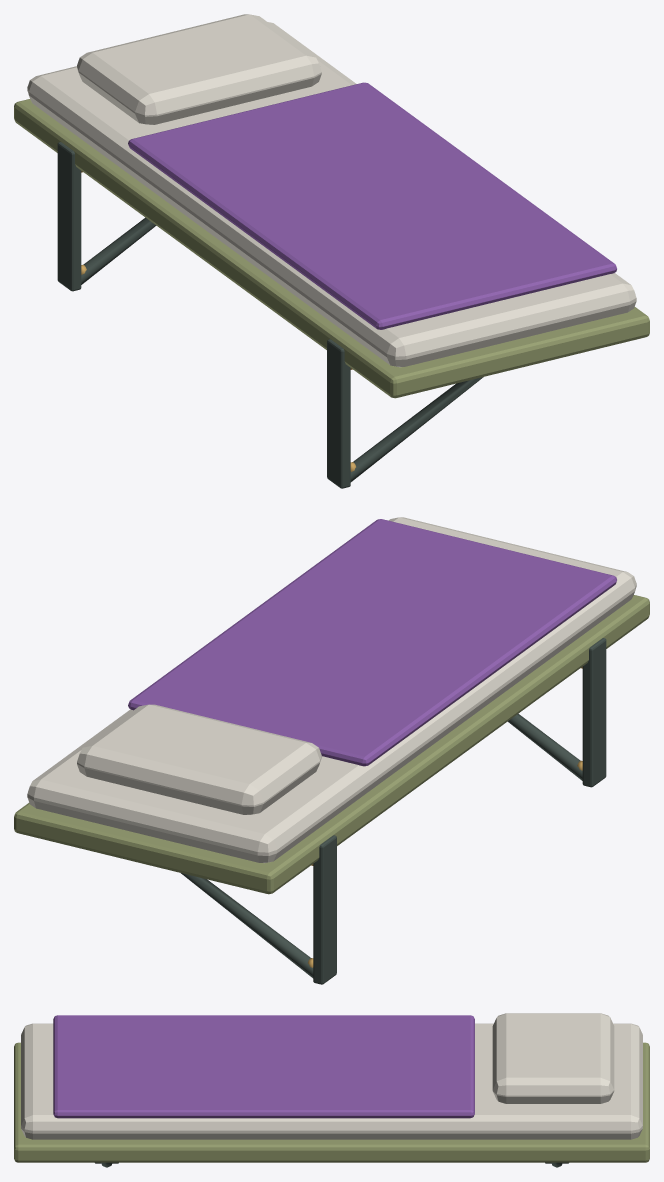
Rendered from trixie-wall-bunk.glb.
3 renders of one model, top to bottom at view 1: azimuth 30°, elevation 25°; view 2: azimuth 150°, elevation 25°; view 3: azimuth 270°, elevation 25°, orthographic. The views are drawn at different scales.
Parts seen in each view (by area): view 1: folded purple cover.003, thin mattress.003, wall bunk platform.003, small flat pillow.003, wall bracket plate.007, wall bracket plate.006, triangular bunk bracket.006, triangular bunk bracket.007; view 2: folded purple cover.003, thin mattress.003, wall bunk platform.003, small flat pillow.003, wall bracket plate.006, wall bracket plate.007, triangular bunk bracket.007, triangular bunk bracket.006; view 3: folded purple cover.003, thin mattress.003, wall bunk platform.003, small flat pillow.003.
Part boxes in pixels (x1,y1,x2,y2): folded purple cover.003: (128,82,616,329); thin mattress.003: (27,22,636,367); wall bunk platform.003: (14,99,649,398); small flat pillow.003: (77,14,321,124); wall bracket plate.007: (57,142,81,291); wall bracket plate.006: (327,339,350,488); triangular bunk bracket.006: (350,377,483,482); triangular bunk bracket.007: (81,217,156,284); folded purple cover.003: (128,519,616,766); thin mattress.003: (27,517,636,863); wall bunk platform.003: (14,595,649,894); small flat pillow.003: (77,704,321,814); wall bracket plate.006: (582,638,606,787); wall bracket plate.007: (313,835,336,984); triangular bunk bracket.007: (181,873,313,978); triangular bunk bracket.006: (508,713,582,780); folded purple cover.003: (53,1015,474,1118); thin mattress.003: (21,1023,642,1139); wall bunk platform.003: (14,1042,649,1162); small flat pillow.003: (492,1013,614,1103).
Size of the model in its own units: 0.709 by 0.527 by 1.78.
